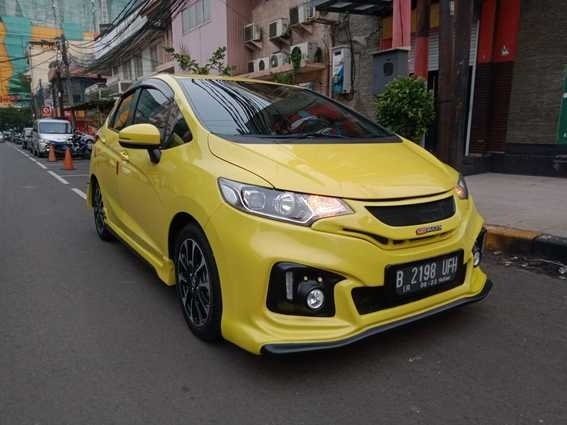plate: (395, 257, 458, 291)
